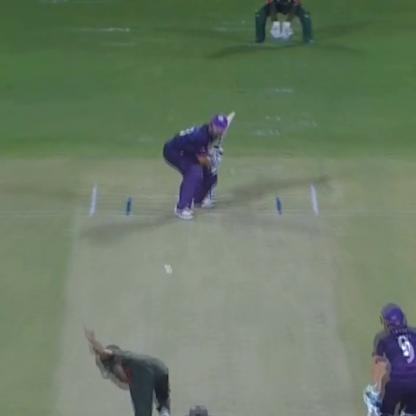ball: (163, 267, 176, 275), (163, 261, 172, 268)
bat: (214, 108, 236, 156)
pitch: (51, 186, 341, 408)
